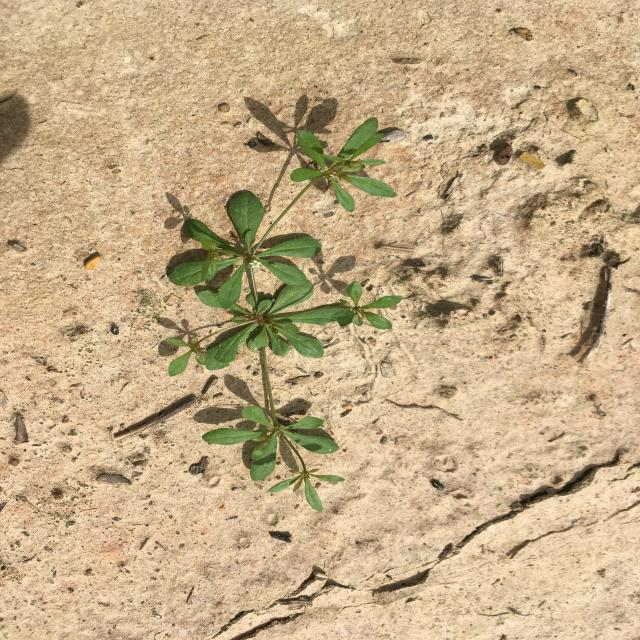Carpetweed: (166, 118, 402, 512)
